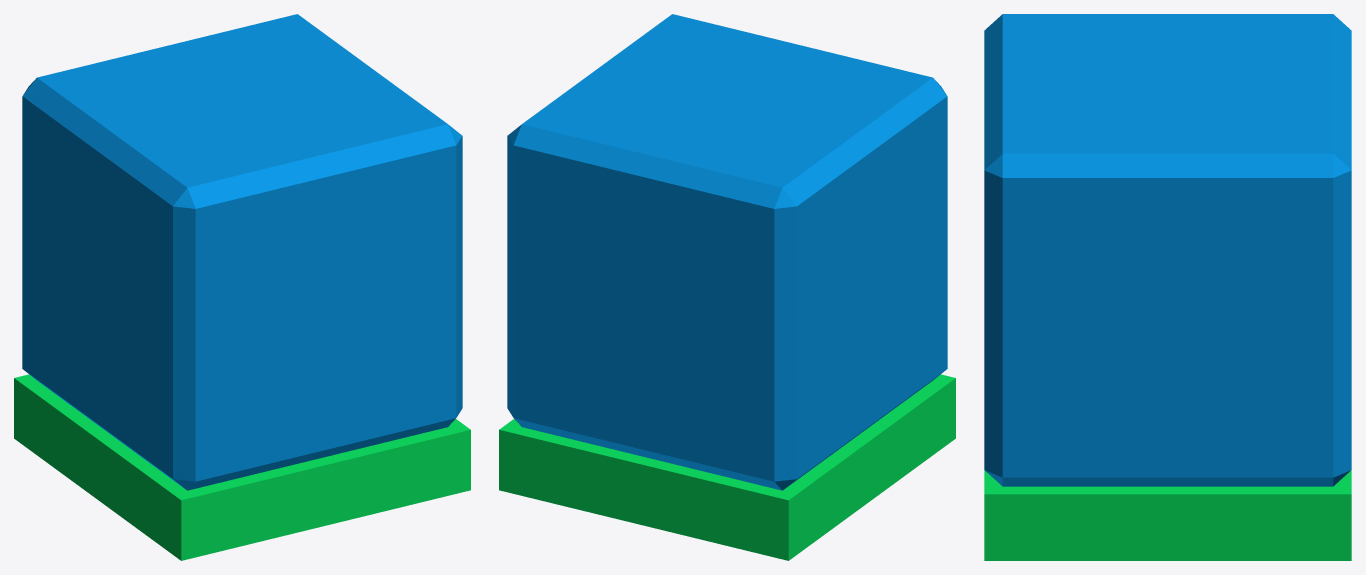
The model's file is Wall.fbx.
3 renders of one model, left to right at view 1: azimuth 30°, elevation 25°; view 2: azimuth 150°, elevation 25°; view 3: azimuth 270°, elevation 25°, orthographic. The views are drawn at different scales.
Parts seen in each view (by area): view 1: pCube3; view 2: pCube3; view 3: pCube3.
Boxes of the visible parts, x1,y1,x2,y2 form: pCube3: (14, 14, 470, 560); pCube3: (499, 14, 955, 560); pCube3: (984, 14, 1351, 560).
Size of the model in its own units: 1 by 1.2 by 1.
